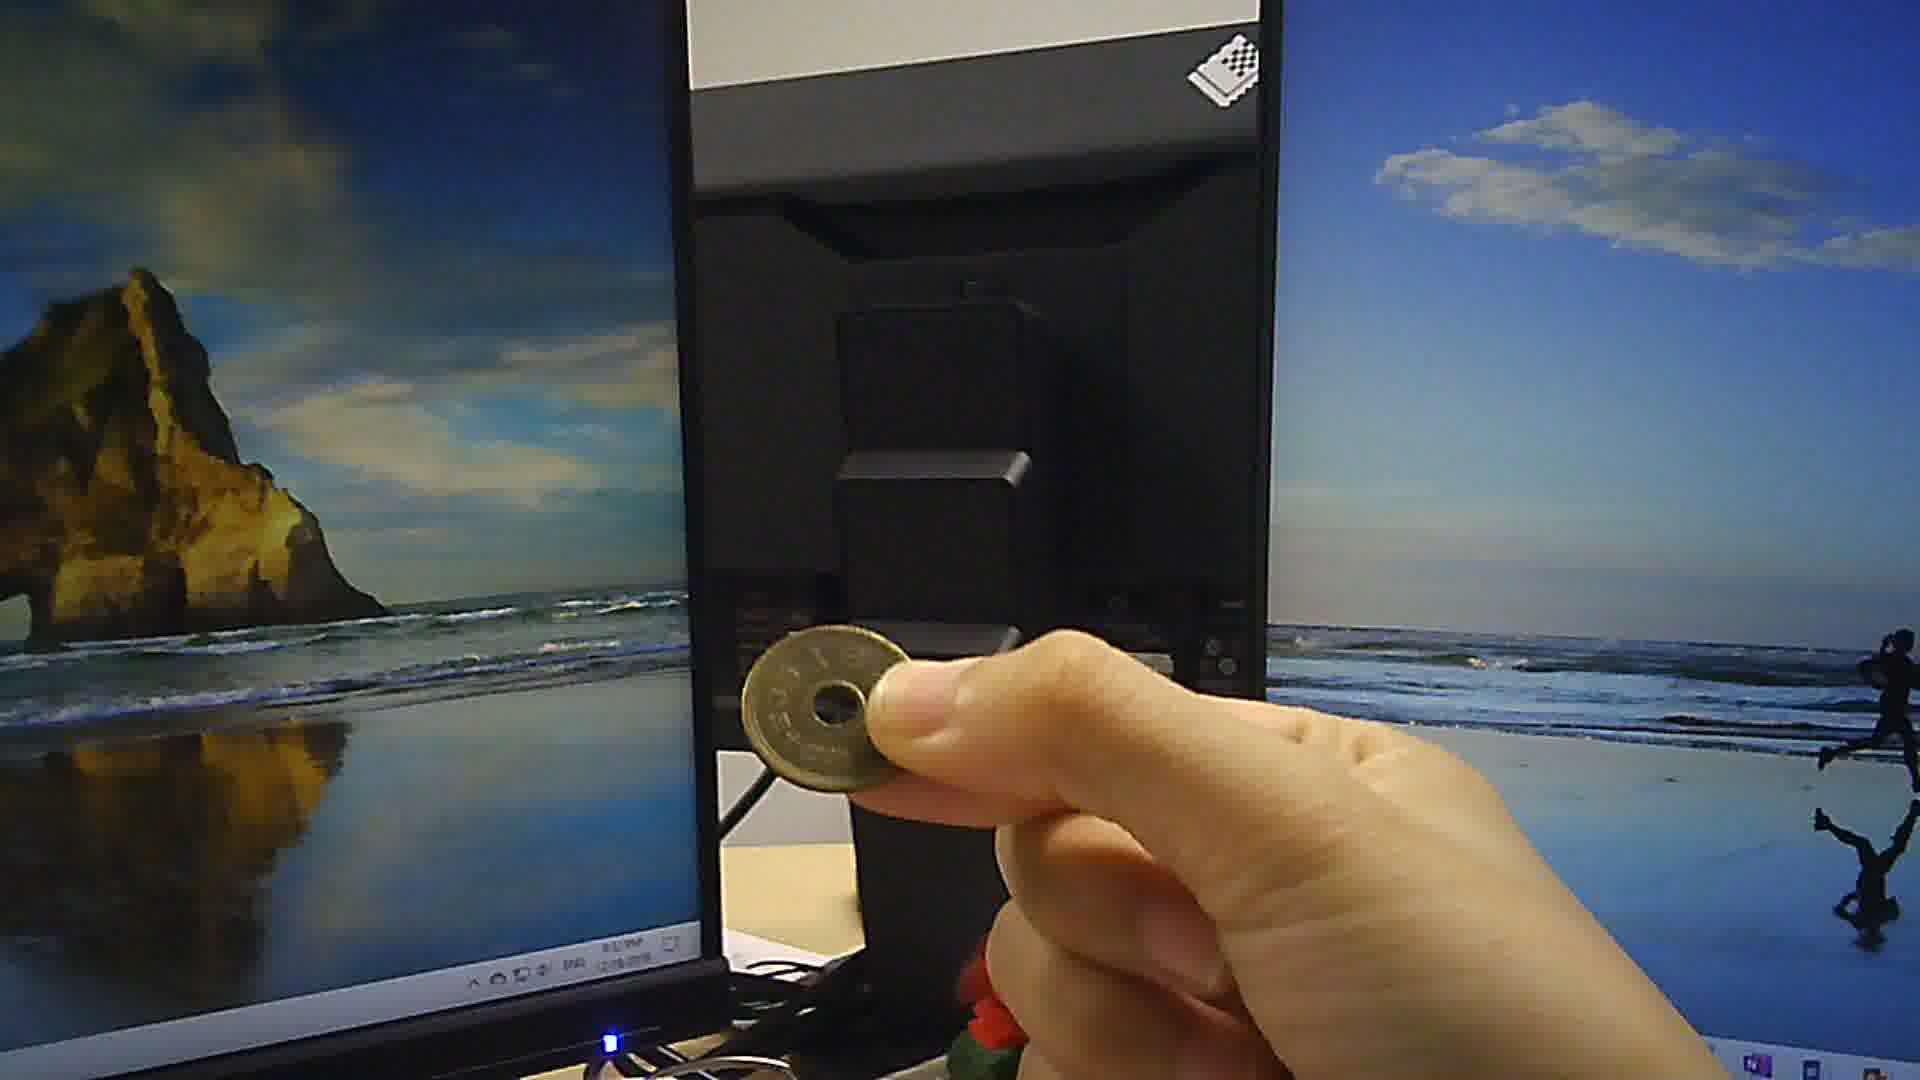5 Yen: (750, 621, 930, 793)
